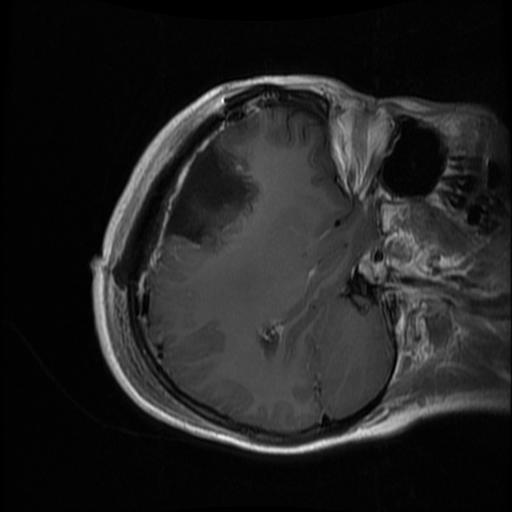glioma: (168, 139, 263, 252)
